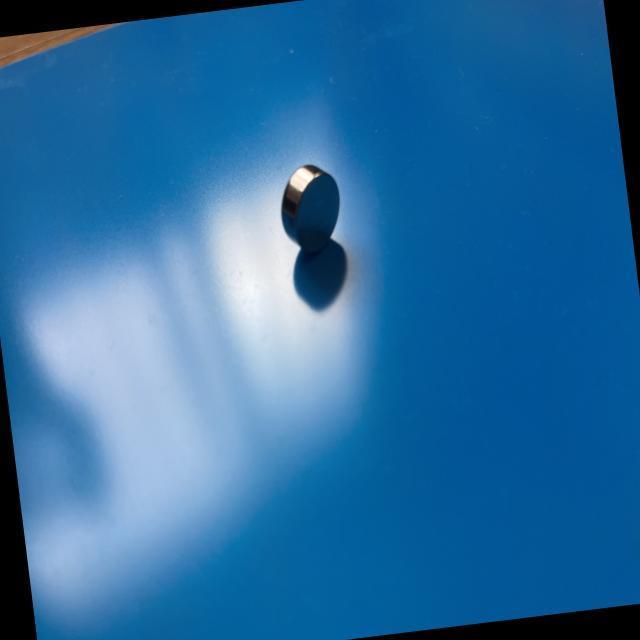COIN: (274, 158, 347, 258)
